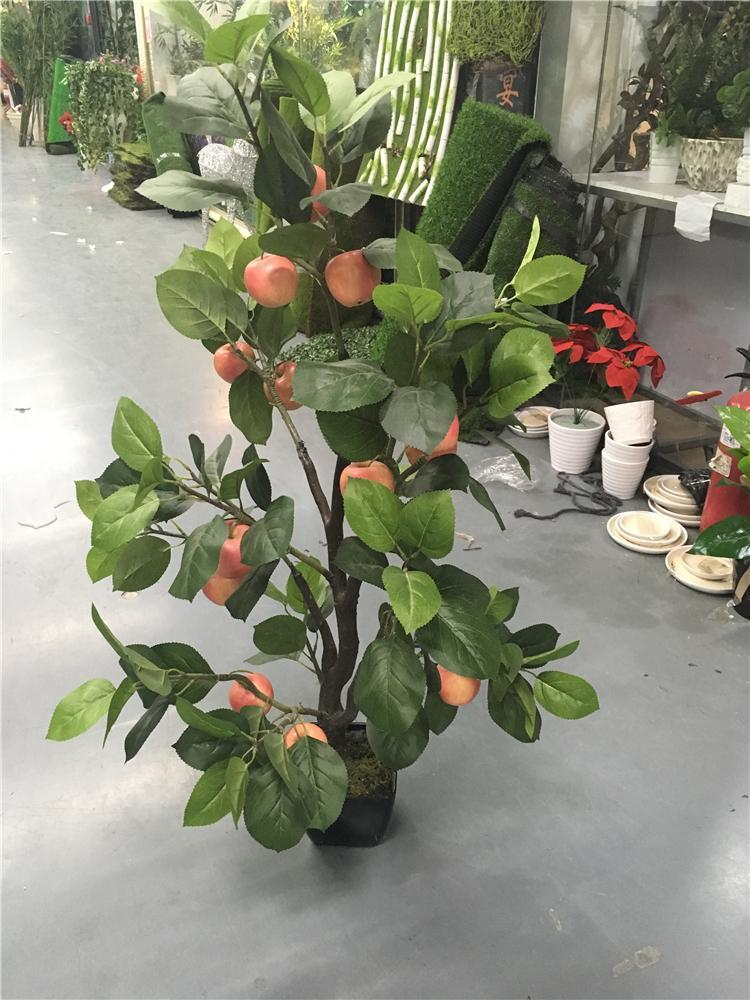apple: (211, 515, 261, 577), (242, 254, 296, 308), (324, 251, 378, 305), (261, 362, 311, 411), (339, 461, 395, 504), (227, 672, 273, 716), (411, 417, 457, 461), (433, 662, 479, 706), (204, 574, 253, 606), (283, 722, 332, 754), (212, 344, 245, 382)
